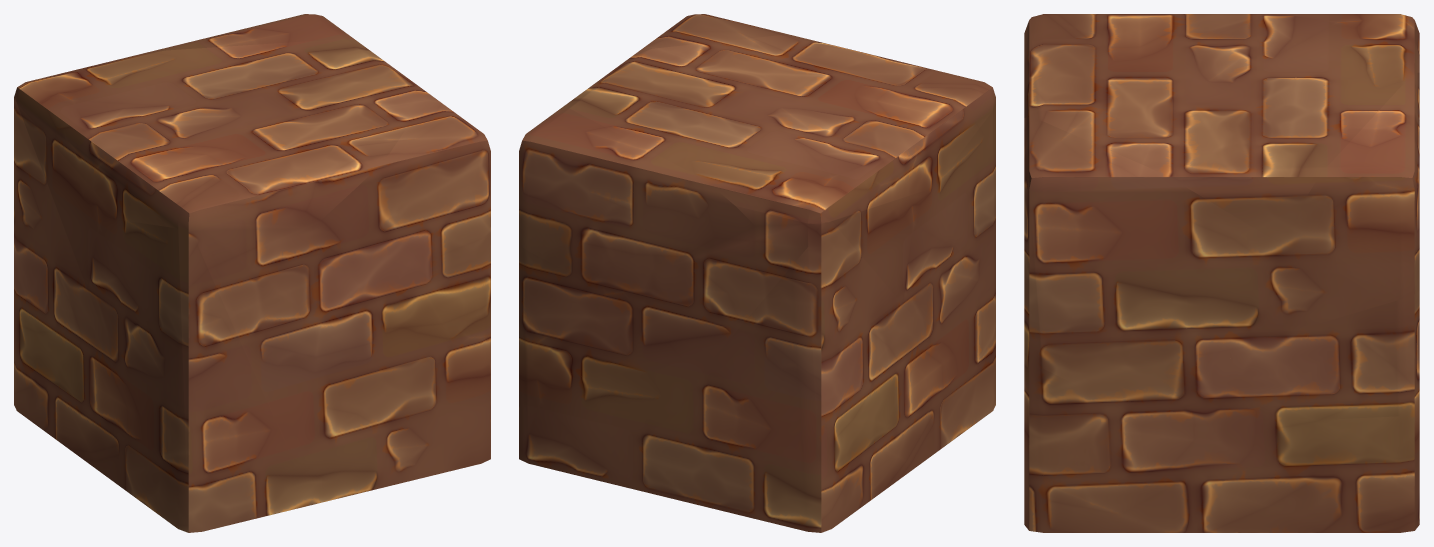
Rendered from bloque ladrillo piezas.fbx.
3 renders of one model, left to right at view 1: azimuth 30°, elevation 25°; view 2: azimuth 150°, elevation 25°; view 3: azimuth 270°, elevation 25°, orthographic. The views are drawn at different scales.
Parts seen in each view (by area): view 1: Box001_Part_3, Box001_Part_4, Box001_Part_6, Box001_Part_9, Box001_Part_5, Box001_Part_10; view 2: Box001_Part_9, Box001_Part_3, Box001_Part_10, Box001_Part_8, Box001_Part_6, Box001_Part_7, Box001_Part_1, Box001_Part_5; view 3: Box001_Part_3, Box001_Part_5, Box001_Part_2, Box001_Part_10, Box001_Part_7, Box001_Part_4, Box001_Part_1.
Part boxes in pixels (box(x1,y1,x2,y2)): Box001_Part_3: box(14, 39, 427, 231); Box001_Part_4: box(192, 229, 490, 504); Box001_Part_6: box(90, 220, 312, 532); Box001_Part_9: box(14, 102, 119, 464); Box001_Part_5: box(312, 93, 490, 301); Box001_Part_10: box(127, 14, 358, 57); Box001_Part_9: box(629, 188, 934, 532); Box001_Part_3: box(563, 35, 995, 226); Box001_Part_10: box(519, 107, 755, 292); Box001_Part_8: box(589, 222, 829, 457); Box001_Part_6: box(905, 103, 995, 474); Box001_Part_7: box(519, 353, 630, 488); Box001_Part_1: box(519, 245, 610, 379); Box001_Part_5: box(631, 14, 803, 56); Box001_Part_3: box(1024, 14, 1419, 242); Box001_Part_5: box(1024, 116, 1296, 386); Box001_Part_2: box(1080, 348, 1313, 532); Box001_Part_10: box(1279, 72, 1419, 330); Box001_Part_7: box(1270, 409, 1419, 532); Box001_Part_4: box(1024, 341, 1137, 532); Box001_Part_1: box(1288, 290, 1419, 420).
Size of the model in its own units: 20 by 20 by 20.
